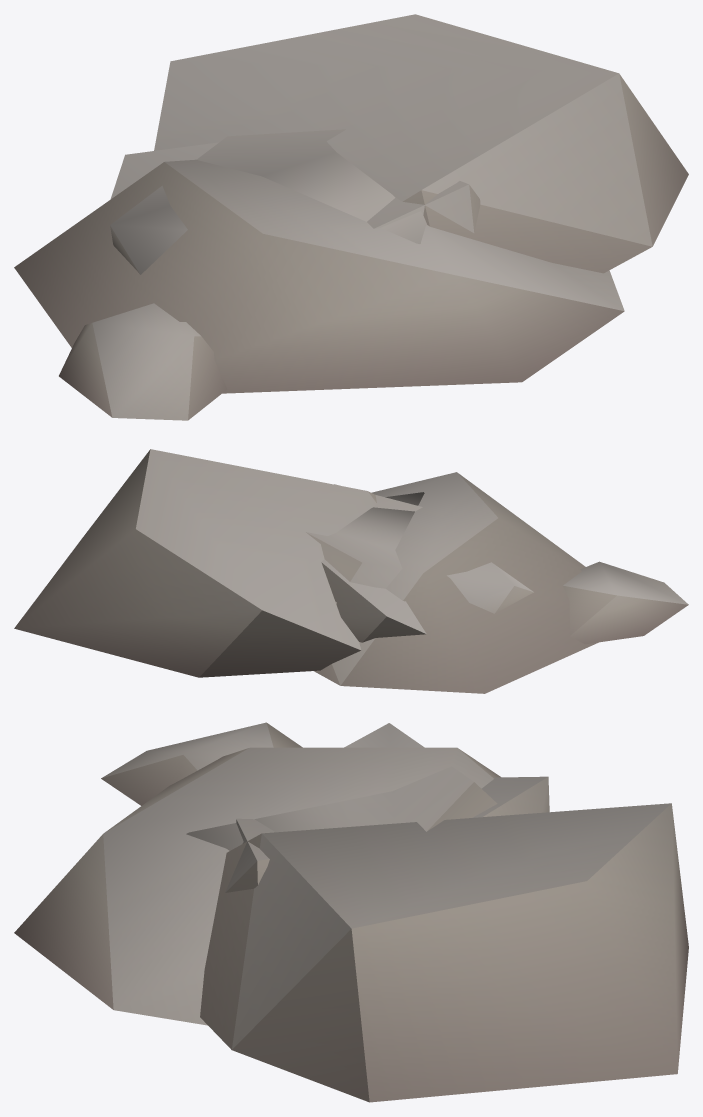
Rendered from rocks.glb.
3 views of the same model, one above another, from view 1: azimuth 30°, elevation 25°; view 2: azimuth 150°, elevation 25°; view 3: azimuth 270°, elevation 25° (orthographic). The views are drawn at different scales.
Parts seen in each view (by area): view 1: floor_dirt_large.003, floor_dirt_large.002, floor_dirt_large.006, floor_dirt_large.001; view 2: floor_dirt_large.003, floor_dirt_large.002, floor_dirt_large.006, floor_dirt_large.001; view 3: floor_dirt_large.003, floor_dirt_large.002, floor_dirt_large.006, floor_dirt_large.001.
Boxes of the visible parts, x1,y1,x2,y2 form: floor_dirt_large.003: (59, 14, 688, 420); floor_dirt_large.002: (14, 159, 624, 393); floor_dirt_large.006: (110, 129, 426, 274); floor_dirt_large.001: (110, 142, 480, 232); floor_dirt_large.003: (14, 449, 688, 677); floor_dirt_large.002: (314, 472, 598, 693); floor_dirt_large.006: (306, 492, 533, 613); floor_dirt_large.001: (321, 484, 426, 642); floor_dirt_large.003: (101, 722, 688, 1102); floor_dirt_large.002: (14, 747, 500, 1025); floor_dirt_large.006: (186, 723, 497, 850); floor_dirt_large.001: (225, 776, 549, 892).
Bounding box in the file's own units: 0.6137 × 0.1129 × 0.4977.
1 material, 1 textured.
